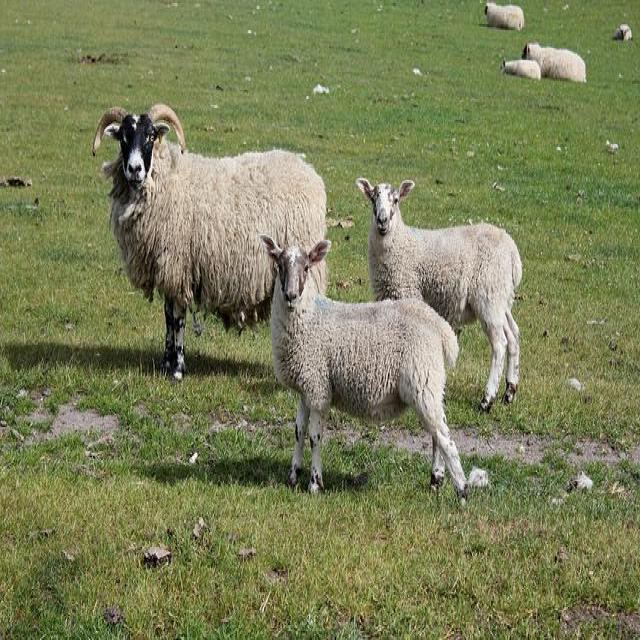Sheep: (91, 103, 329, 381), (258, 232, 467, 507), (352, 174, 520, 417)
